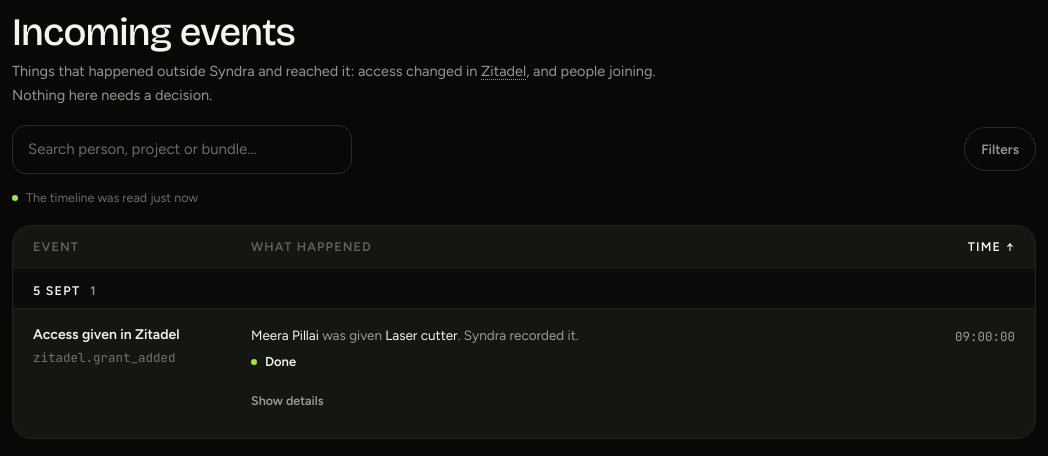
Test: Incoming events — search › says nothing matched, how many events there are, and offers the way back
The width and height of the screenshot is (1048, 456).
Step 1. Type "zzz" into the search field named "search events" → {"x": 182, "y": 149}, box [12,125,352,174]
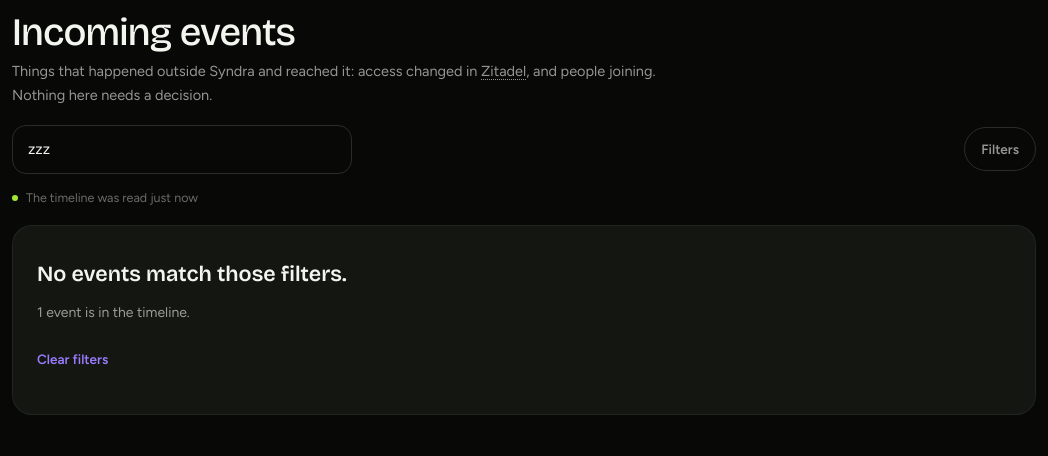
Check: the text "No events match those filters." is shown, box [37,258,347,292]
Check: the text "1 event is in the timeline." is shown, box [37,304,190,321]
Step 2. Click the button "Clear filters" → {"x": 73, "y": 360}, box [37,338,108,382]
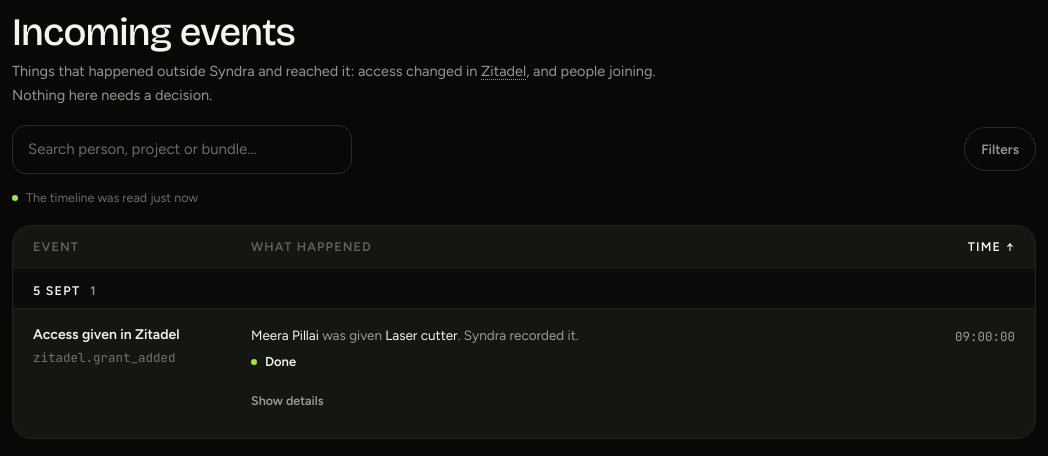
Check: the text "Access given in Zitadel" is shown, box [33,326,180,343]
